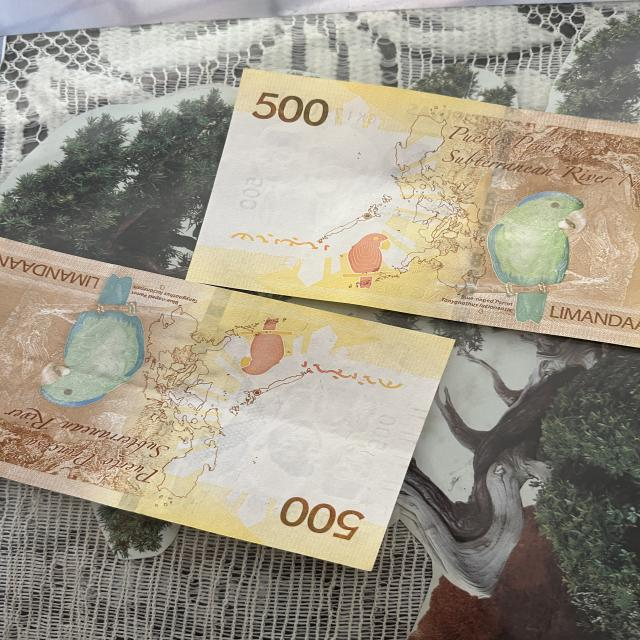500_big_parrot: (478, 188, 590, 324), (40, 275, 151, 403)
500_parrot_watermark: (235, 313, 296, 375), (338, 228, 397, 291)
value_watermark: (366, 413, 397, 452), (236, 175, 268, 212)
watermark: (252, 384, 400, 496), (250, 126, 387, 230)
